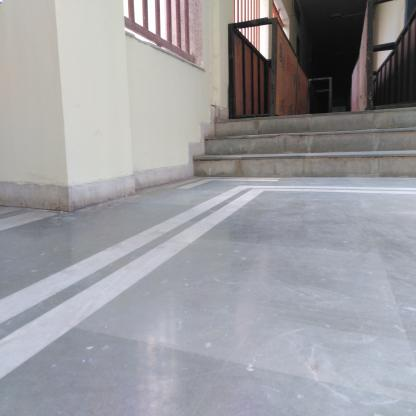stairs: (221, 117, 411, 182)
